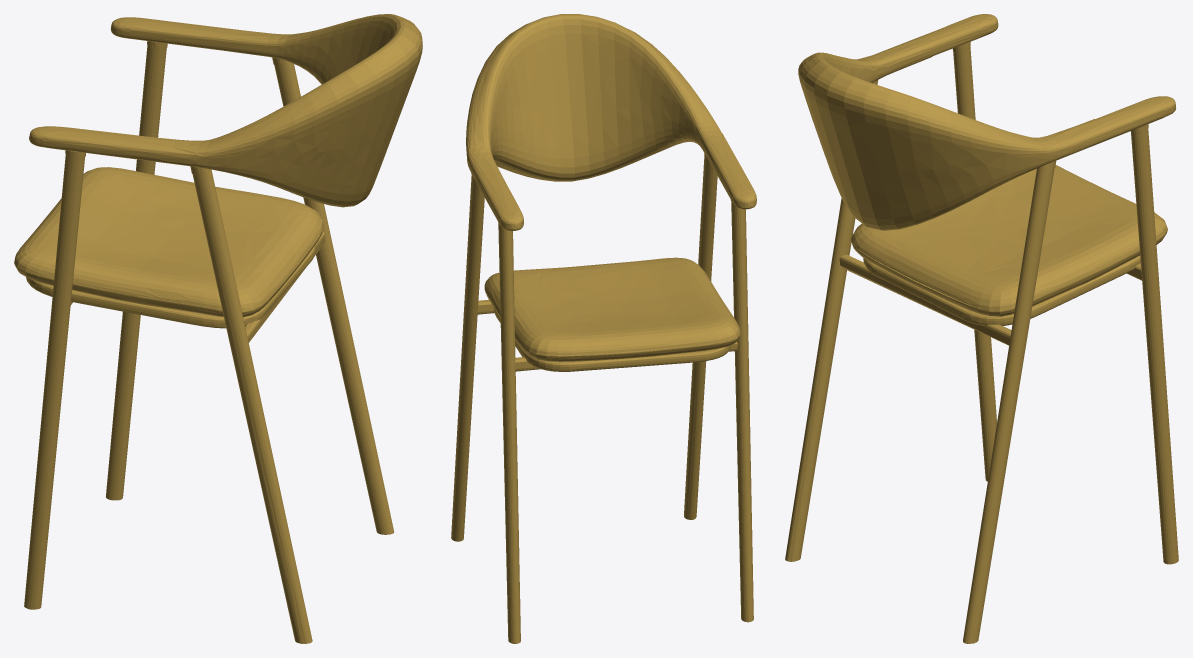
3 views of the same model, side by side, from view 1: azimuth 30°, elevation 25°; view 2: azimuth 150°, elevation 25°; view 3: azimuth 270°, elevation 25° (orthographic). The views are drawn at different scales.
Visible parts, largest first — view 1: solid_001_wire; view 2: solid_001_wire; view 3: solid_001_wire.
Part boxes in pixels (bbox=[...]): solid_001_wire: bbox=[14, 14, 422, 643]; solid_001_wire: bbox=[451, 14, 756, 643]; solid_001_wire: bbox=[785, 14, 1178, 643].
Size of the model in its own units: 0.5421 by 0.8158 by 0.5355.
